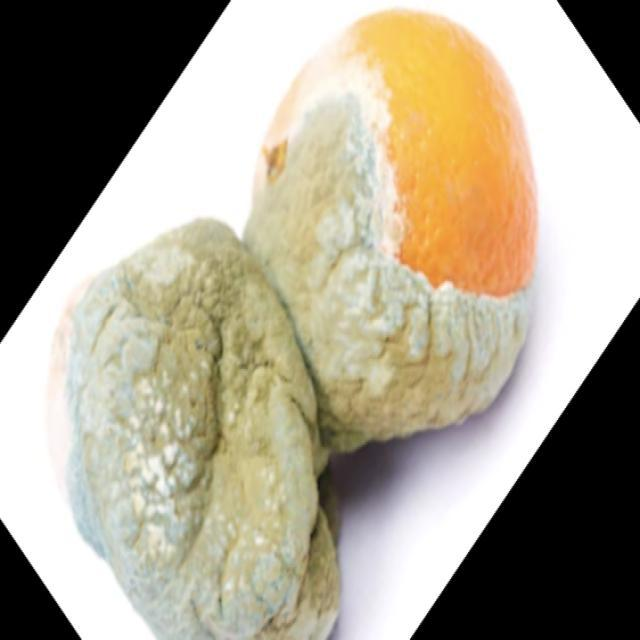sangat-busuk: (245, 10, 536, 452), (66, 220, 338, 639)
